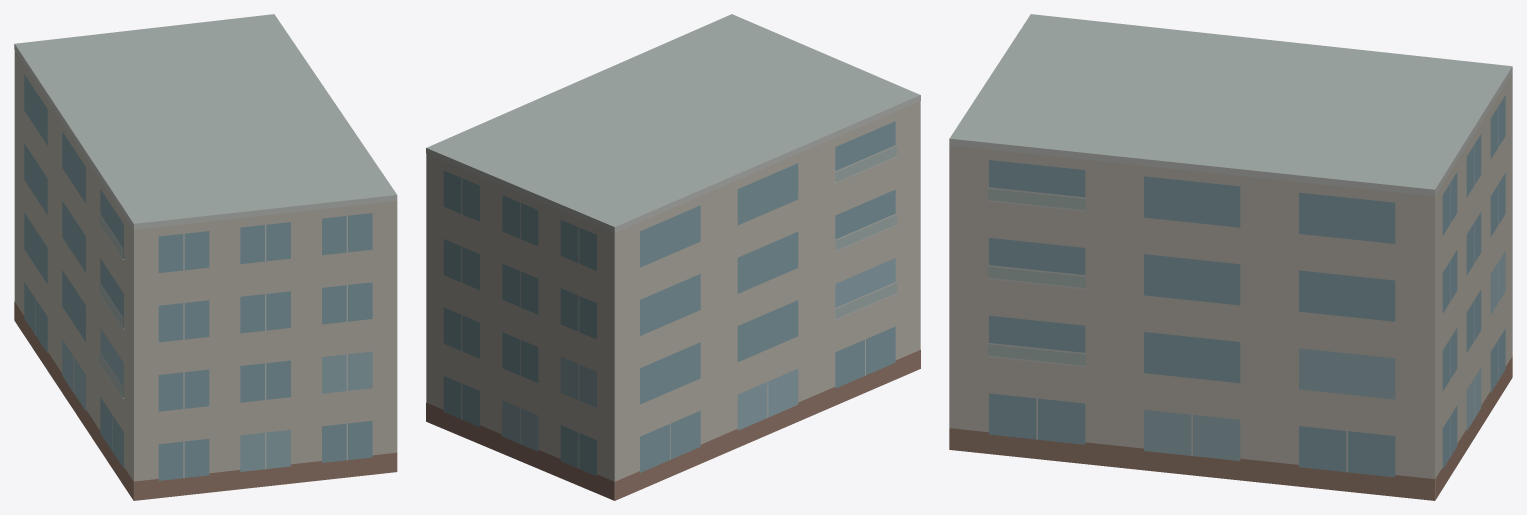
The model's file is survey-upis-32726546.glb.
3 views of the same model, side by side, from view 1: azimuth 30°, elevation 25°; view 2: azimuth 150°, elevation 25°; view 3: azimuth 270°, elevation 25° (orthographic). The views are drawn at different scales.
Visible parts, largest first — view 1: survey-upis-32726546.tmp; view 2: survey-upis-32726546.tmp; view 3: survey-upis-32726546.tmp.
Boxes of the visible parts, x1,y1,x2,y2 form: survey-upis-32726546.tmp: (14, 14, 397, 500); survey-upis-32726546.tmp: (426, 14, 920, 500); survey-upis-32726546.tmp: (949, 14, 1512, 500).
Bounding box in the file's own units: 13.75 × 11.35 × 18.63.
